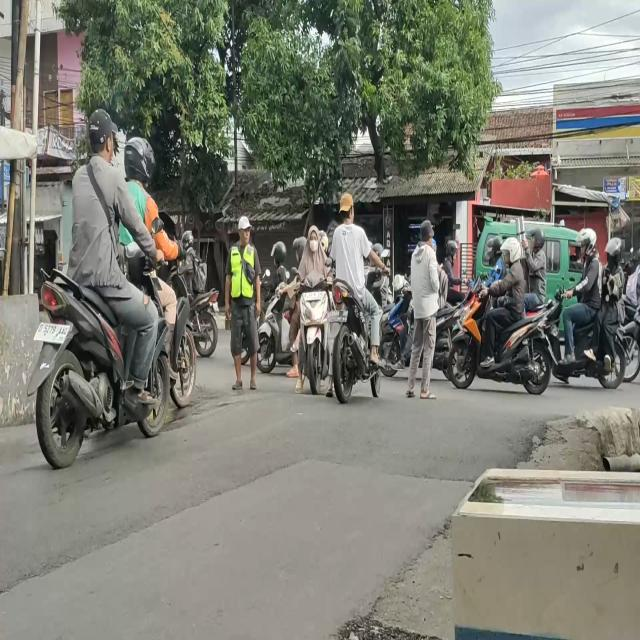helmet: (124, 138, 149, 180), (505, 238, 521, 264), (581, 230, 595, 252), (532, 227, 544, 251), (610, 239, 622, 263), (492, 236, 502, 256), (298, 237, 307, 257), (446, 240, 454, 261), (276, 242, 284, 261), (183, 231, 193, 246)
no-helmet: (90, 112, 113, 159), (340, 195, 354, 223), (308, 227, 320, 252)
